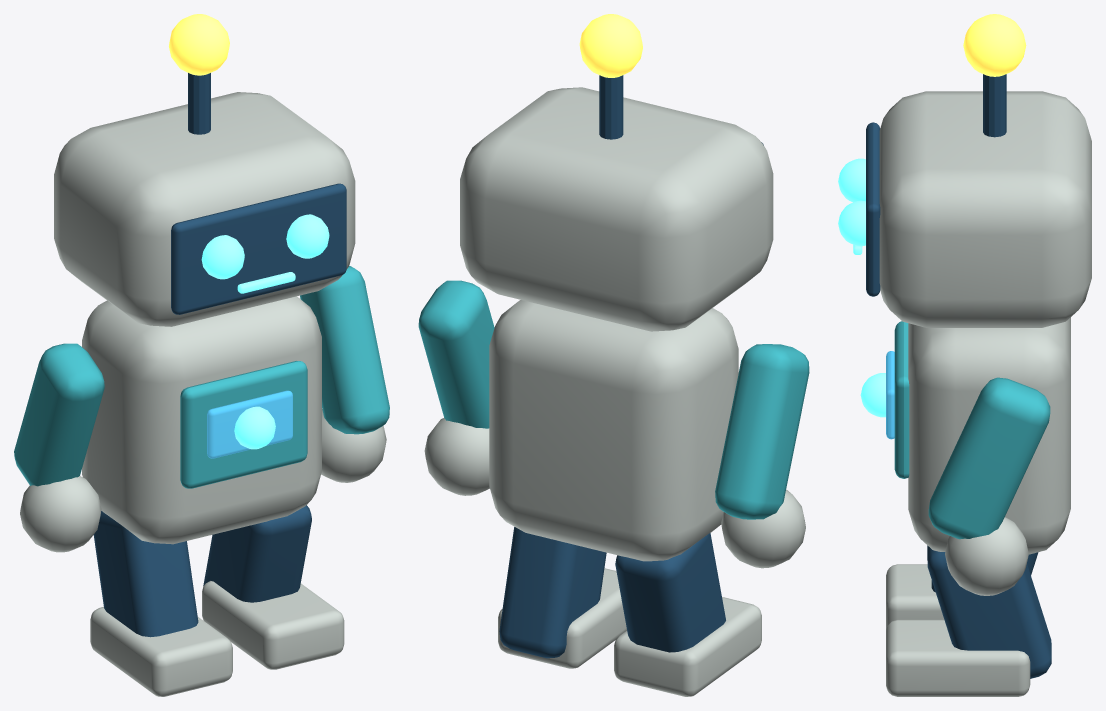
File: robot.glb
The picture shows the model from 3 angles, left to right: view 1: azimuth 30°, elevation 25°; view 2: azimuth 150°, elevation 25°; view 3: azimuth 270°, elevation 25°; orthographic projection. The views are drawn at different scales.
Parts seen in each view (by area): view 1: Head, Body, FaceGlass, Arm_R, Arm_L, Leg_L, ChestPanel, Foot_R, Foot_L, Leg_R, Hand_L, ChestScreen (+7 smaller); view 2: Head, Body, Arm_L, Leg_R, Leg_L, Arm_R, Foot_L, Hand_R, Hand_L, Foot_R, AntennaTip, Antenna; view 3: Head, Body, Arm_R, Foot_R, Leg_R, Hand_R, AntennaTip, Foot_L, FaceGlass, ChestPanel, Antenna, Eye_R (+3 smaller).
Boxes of the visible parts, x1=… form: Head: x1=54, y1=92, x2=355, y2=326; Body: x1=82, y1=296, x2=321, y2=544; FaceGlass: x1=171, y1=183, x2=346, y2=314; Arm_R: x1=300, y1=266, x2=389, y2=434; Arm_L: x1=14, y1=343, x2=104, y2=486; Leg_L: x1=93, y1=511, x2=198, y2=637; ChestPanel: x1=180, y1=361, x2=307, y2=488; Foot_R: x1=202, y1=581, x2=344, y2=669; Foot_L: x1=90, y1=607, x2=232, y2=696; Leg_R: x1=203, y1=505, x2=311, y2=602; Hand_L: x1=20, y1=476, x2=101, y2=552; ChestScreen: x1=207, y1=390, x2=292, y2=458; Head: x1=460, y1=87, x2=773, y2=331; Body: x1=489, y1=300, x2=738, y2=561; Arm_L: x1=715, y1=344, x2=809, y2=519; Leg_R: x1=499, y1=527, x2=606, y2=658; Leg_L: x1=615, y1=533, x2=725, y2=652; Arm_R: x1=418, y1=280, x2=494, y2=428; Foot_L: x1=614, y1=597, x2=761, y2=696; Hand_R: x1=424, y1=418, x2=489, y2=495; Hand_L: x1=721, y1=489, x2=805, y2=568; Foot_R: x1=498, y1=568, x2=626, y2=668; AntennaTip: x1=579, y1=14, x2=642, y2=77; Antenna: x1=599, y1=75, x2=623, y2=139; Head: x1=879, y1=91, x2=1091, y2=327; Body: x1=908, y1=317, x2=1070, y2=554; Arm_R: x1=928, y1=377, x2=1050, y2=539; Foot_R: x1=886, y1=619, x2=1030, y2=696; Leg_R: x1=927, y1=545, x2=1051, y2=678; Hand_R: x1=945, y1=517, x2=1028, y2=595; AntennaTip: x1=963, y1=14, x2=1026, y2=76; Foot_L: x1=886, y1=564, x2=944, y2=629; FaceGlass: x1=866, y1=122, x2=880, y2=296; ChestPanel: x1=894, y1=321, x2=909, y2=478; Antenna: x1=983, y1=74, x2=1006, y2=137; Eye_R: x1=838, y1=200, x2=865, y2=246.
Size of the model in its own units: 1.6 by 2.68 by 0.967.
